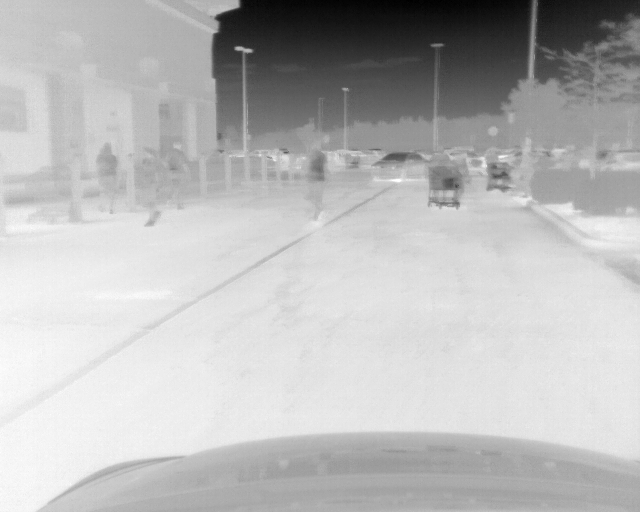car: (371, 152, 427, 180)
people: (135, 149, 163, 229), (95, 142, 119, 215), (167, 142, 190, 210), (305, 144, 324, 222), (516, 151, 533, 198), (453, 153, 466, 209), (485, 145, 500, 190)
